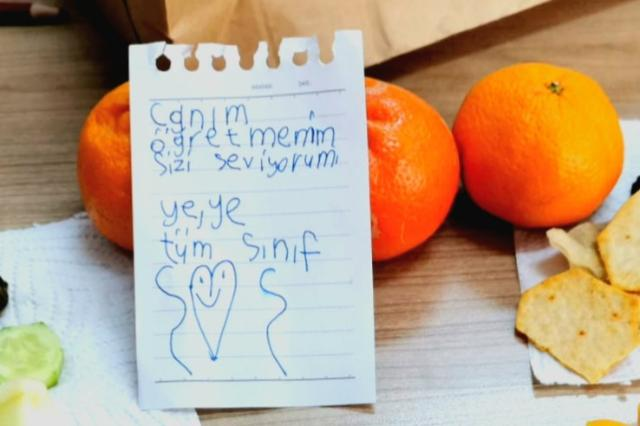Kagit: (127, 28, 375, 407)
Organik: (449, 63, 625, 229), (373, 75, 461, 266), (517, 270, 640, 382), (77, 79, 130, 252), (1, 322, 63, 388), (600, 190, 640, 291)
